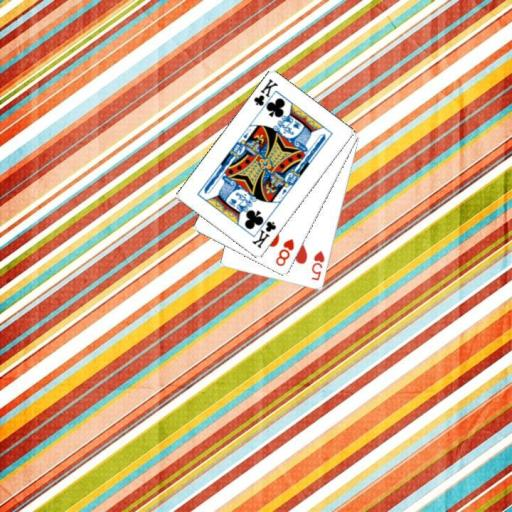5H: (308, 248, 326, 282)
8H: (272, 236, 296, 268)
KC: (251, 76, 280, 115), (249, 212, 277, 250)
